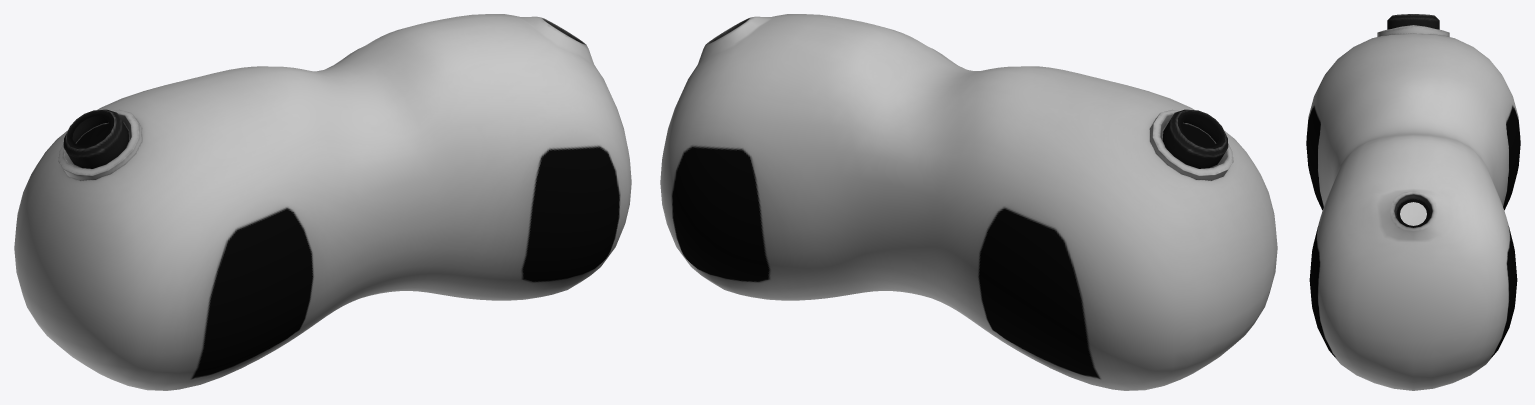
The model's file is torso.obj.
3 views of the same model, side by side, from view 1: azimuth 30°, elevation 25°; view 2: azimuth 150°, elevation 25°; view 3: azimuth 270°, elevation 25° (orthographic). The views are drawn at different scales.
Visible parts, largest first — view 1: Belly_Useless_Dog_; view 2: Belly_Useless_Dog_; view 3: Belly_Useless_Dog_.
Part boxes in pixels (left/top/right/bottom): Belly_Useless_Dog_: left=14, top=14, right=631, bottom=390; Belly_Useless_Dog_: left=660, top=14, right=1277, bottom=390; Belly_Useless_Dog_: left=1306, top=14, right=1520, bottom=390.
Size of the model in its own units: 3.69 by 1.72 by 1.55.
Materials: 1 (1 with a texture image).
